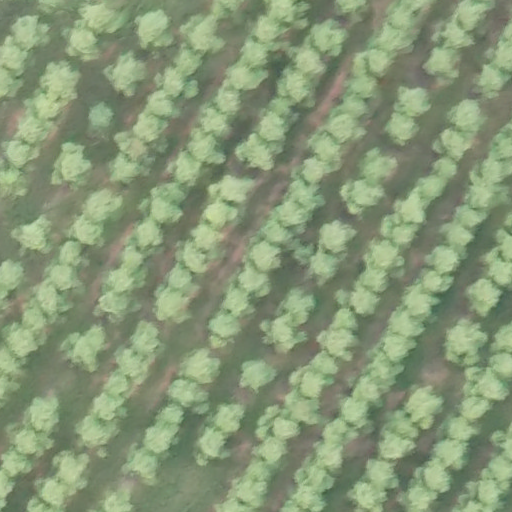eucalipto: (60, 325, 108, 371), (51, 142, 95, 192), (444, 319, 486, 366), (377, 417, 421, 460), (133, 6, 173, 51), (12, 216, 53, 258), (182, 15, 226, 53), (107, 52, 144, 97), (340, 180, 386, 216), (63, 25, 105, 64), (76, 417, 119, 455), (277, 69, 318, 108), (179, 346, 222, 383), (406, 386, 442, 430), (41, 63, 83, 100), (234, 133, 276, 170), (122, 444, 164, 481), (258, 318, 303, 352), (10, 13, 50, 51), (361, 238, 405, 272), (379, 215, 424, 248), (225, 58, 267, 93), (275, 288, 318, 322), (445, 99, 489, 132), (309, 20, 348, 57), (428, 129, 473, 161), (187, 132, 228, 167), (95, 290, 142, 320), (347, 480, 391, 512), (155, 287, 193, 324), (342, 283, 380, 320), (423, 44, 462, 80), (83, 190, 126, 222), (317, 328, 360, 360), (368, 352, 406, 388), (430, 435, 468, 471), (24, 396, 63, 431), (156, 68, 200, 99), (287, 176, 327, 210), (316, 221, 356, 255), (347, 376, 389, 408), (464, 280, 500, 317), (115, 130, 153, 165), (71, 214, 110, 248), (172, 240, 211, 274), (454, 2, 493, 36), (359, 150, 398, 184), (141, 91, 182, 123), (147, 177, 189, 208), (88, 101, 122, 139), (114, 346, 152, 380), (169, 377, 207, 411), (55, 449, 88, 488), (194, 431, 233, 464), (237, 360, 277, 392), (128, 322, 164, 357), (428, 244, 463, 279), (85, 1, 119, 37), (395, 86, 433, 118), (292, 465, 337, 492), (212, 174, 251, 205), (387, 305, 426, 336), (168, 44, 205, 76), (473, 372, 510, 404), (375, 27, 413, 58), (231, 477, 270, 507), (31, 284, 65, 318), (337, 395, 371, 429), (308, 129, 341, 164), (275, 199, 311, 231), (142, 424, 178, 456), (380, 331, 416, 363), (15, 428, 52, 459), (17, 113, 55, 143), (386, 1, 424, 31), (403, 287, 437, 320), (258, 112, 290, 147), (249, 240, 284, 272), (134, 111, 170, 142), (46, 262, 82, 293), (207, 315, 244, 345), (365, 462, 403, 491), (434, 21, 478, 46), (291, 47, 330, 75), (252, 13, 286, 45), (5, 327, 40, 358), (312, 438, 347, 469), (29, 94, 70, 120), (203, 201, 238, 231), (384, 116, 419, 146), (1, 41, 30, 77), (108, 156, 144, 185), (474, 158, 511, 186), (1, 167, 31, 201), (174, 153, 204, 187), (307, 252, 341, 282), (425, 459, 454, 494), (352, 50, 391, 76), (1, 257, 25, 299), (101, 369, 138, 396), (200, 107, 232, 138), (478, 66, 508, 99), (286, 393, 319, 423), (465, 183, 498, 213), (255, 437, 289, 466), (151, 199, 186, 227), (238, 268, 273, 296), (329, 116, 365, 143), (486, 254, 512, 291), (21, 305, 51, 337), (133, 218, 165, 248), (1, 449, 33, 479), (212, 404, 244, 434), (5, 140, 38, 169), (225, 285, 253, 319), (268, 1, 306, 26), (279, 493, 329, 512), (392, 195, 427, 222), (458, 395, 493, 422), (412, 173, 448, 199), (214, 84, 244, 115), (291, 372, 328, 397), (191, 224, 224, 252), (339, 93, 371, 121), (262, 221, 294, 249), (439, 224, 476, 248), (452, 204, 486, 230), (319, 419, 354, 444), (238, 41, 271, 67), (358, 268, 391, 294), (106, 269, 140, 294), (91, 394, 125, 419), (245, 461, 277, 487), (446, 416, 478, 442), (328, 308, 362, 332), (300, 158, 327, 188), (406, 485, 436, 512), (39, 479, 74, 502), (119, 245, 149, 271), (418, 269, 450, 293), (100, 490, 134, 512), (59, 242, 90, 266), (488, 42, 512, 73), (476, 478, 502, 506), (308, 354, 339, 377), (165, 267, 195, 290), (155, 404, 184, 427), (432, 158, 459, 182), (349, 76, 379, 97), (271, 417, 301, 438), (1, 72, 25, 97), (491, 352, 512, 379), (496, 125, 512, 158), (495, 323, 512, 353)
